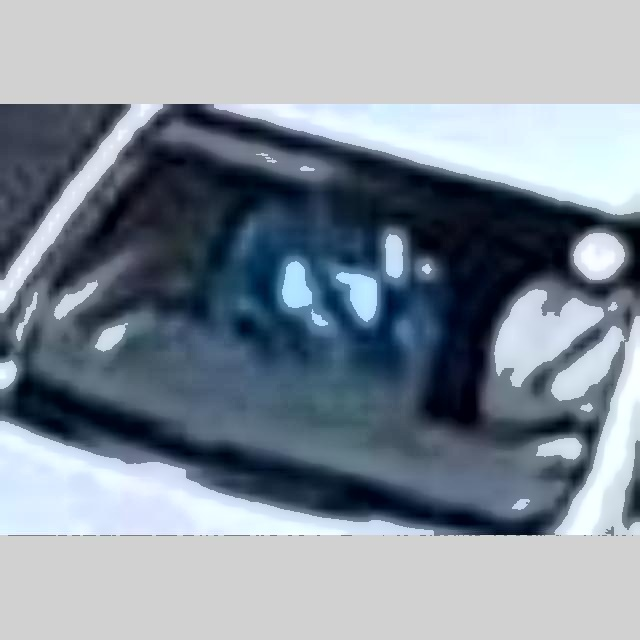pakai: (216, 173, 424, 382)
